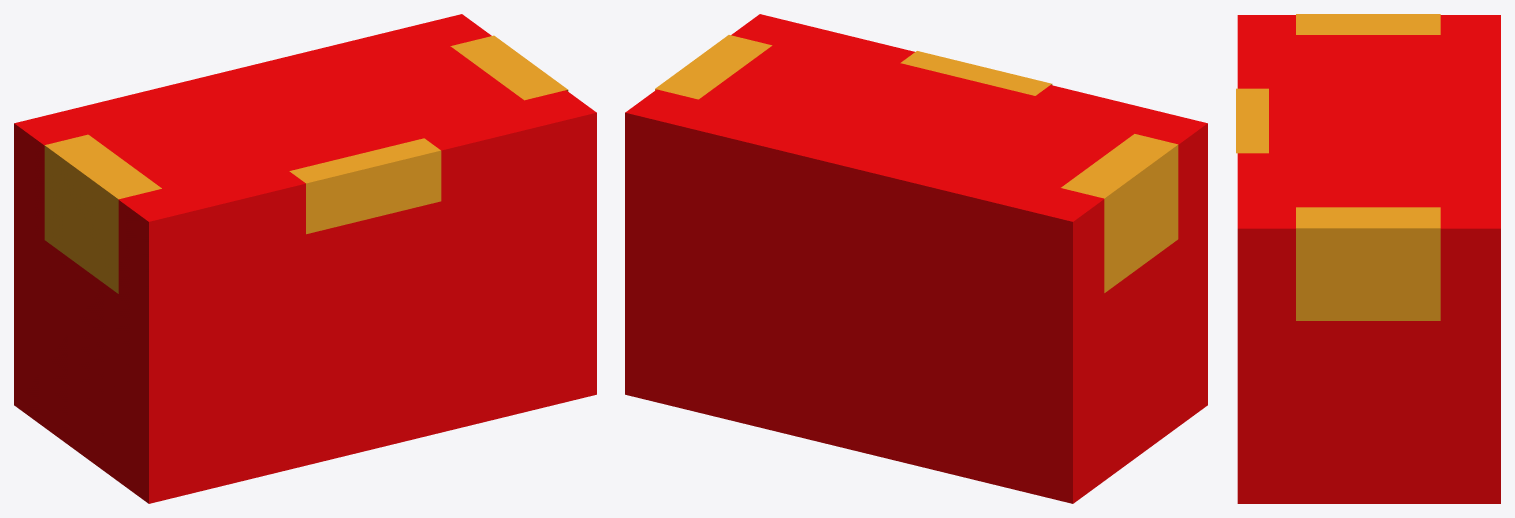
The model's file is clutter_workshop_toolbox.dae.
The picture shows the model from 3 angles, left to right: view 1: azimuth 30°, elevation 25°; view 2: azimuth 150°, elevation 25°; view 3: azimuth 270°, elevation 25°; orthographic projection. The views are drawn at different scales.
Visible parts, largest first — view 1: Colmesh_clutter_workshop_toolbox-1, clutter_workshop_toolbox_a40; view 2: Colmesh_clutter_workshop_toolbox-1, clutter_workshop_toolbox_a40; view 3: Colmesh_clutter_workshop_toolbox-1, clutter_workshop_toolbox_a40.
Part boxes in pixels (x1=…): Colmesh_clutter_workshop_toolbox-1: x1=14, y1=14, x2=596, y2=503; clutter_workshop_toolbox_a40: x1=44, y1=35, x2=568, y2=293; Colmesh_clutter_workshop_toolbox-1: x1=625, y1=14, x2=1207, y2=503; clutter_workshop_toolbox_a40: x1=655, y1=35, x2=1178, y2=292; Colmesh_clutter_workshop_toolbox-1: x1=1237, y1=15, x2=1500, y2=503; clutter_workshop_toolbox_a40: x1=1236, y1=14, x2=1440, y2=320.
Bounding box in the file's own units: 0.5024 × 0.2623 × 0.3021.
